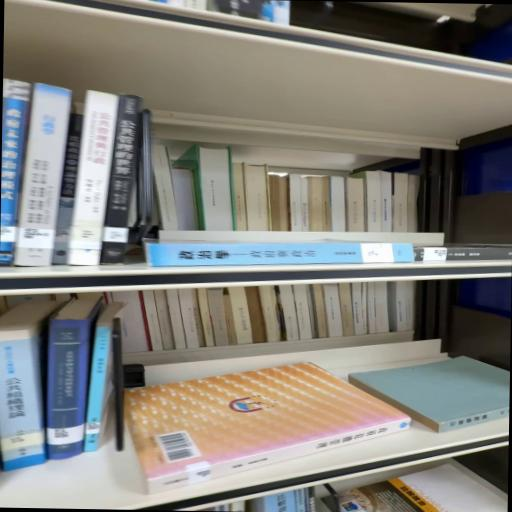flat: (126, 363, 412, 494), (349, 358, 511, 434), (145, 241, 415, 268), (415, 245, 512, 262)
